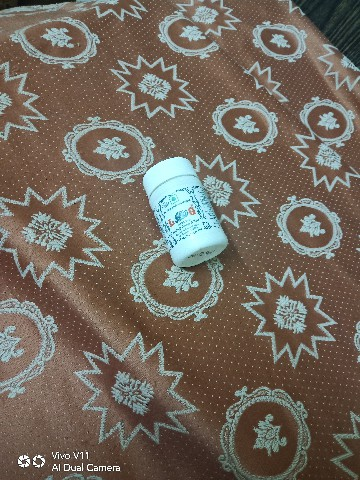lgasafoetidapowder small: (130, 149, 232, 264)
